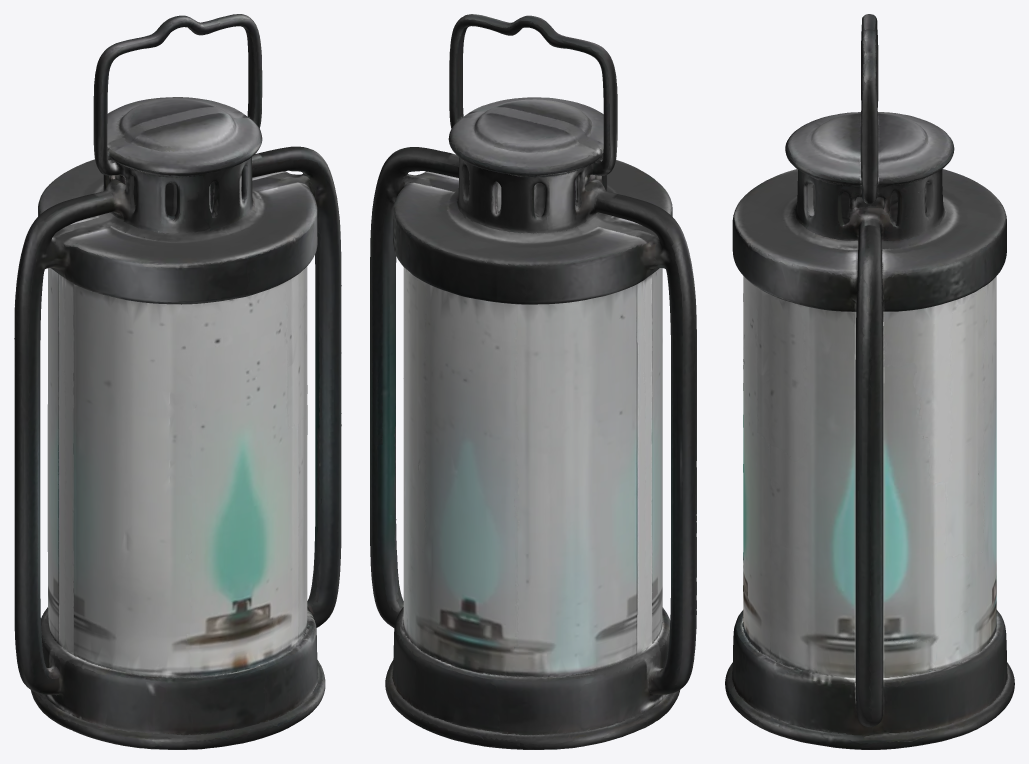
The model's file is item_lantern.glb.
3 renders of one model, left to right at view 1: azimuth 30°, elevation 25°; view 2: azimuth 150°, elevation 25°; view 3: azimuth 270°, elevation 25°, orthographic. The views are drawn at different scales.
Parts seen in each view (by area): view 1: geometry_0; view 2: geometry_0; view 3: geometry_0.
Boxes of the visible parts, <box> form: geometry_0: <box>14,14,341,749</box>; geometry_0: <box>370,14,696,749</box>; geometry_0: <box>725,14,1014,749</box>.
Bounding box in the file's own units: 0.1408 × 0.28 × 0.1116.
1 material, 1 textured.
